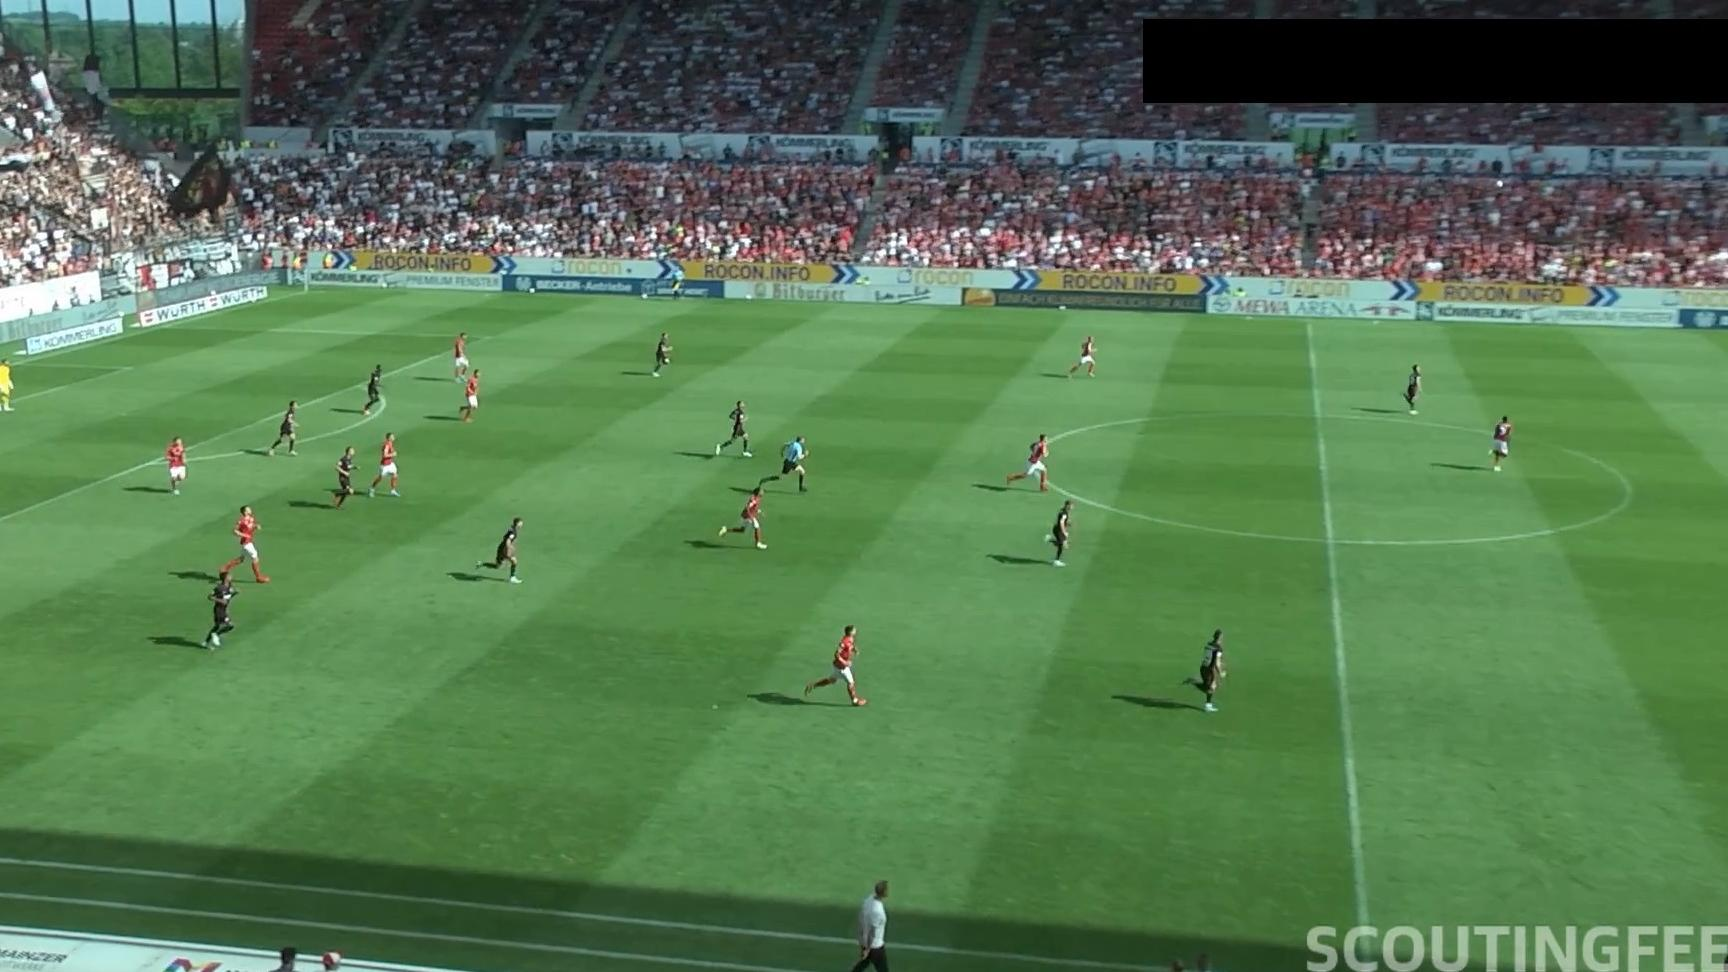ball: (1494, 179, 1504, 189)
